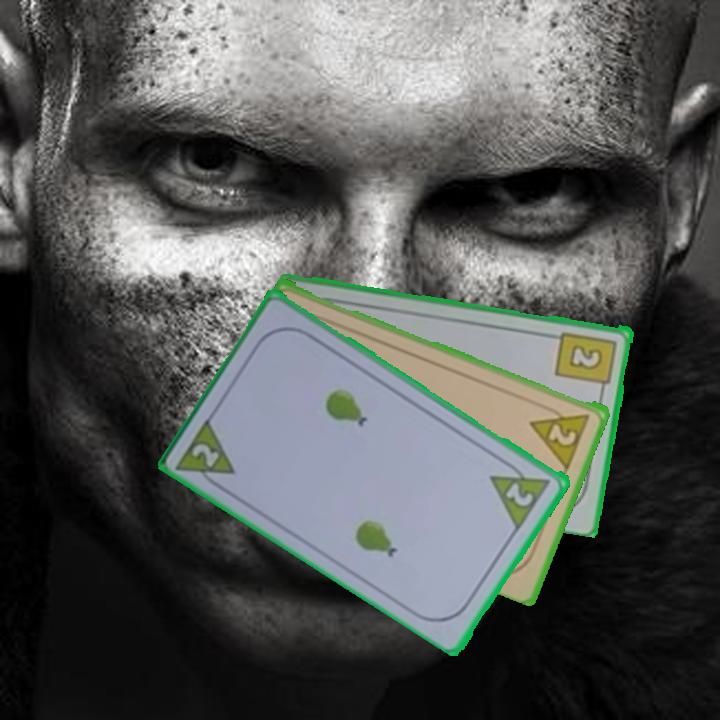2b: (553, 328, 620, 396)
2p: (173, 413, 239, 495), (486, 454, 555, 532), (526, 401, 593, 470)
